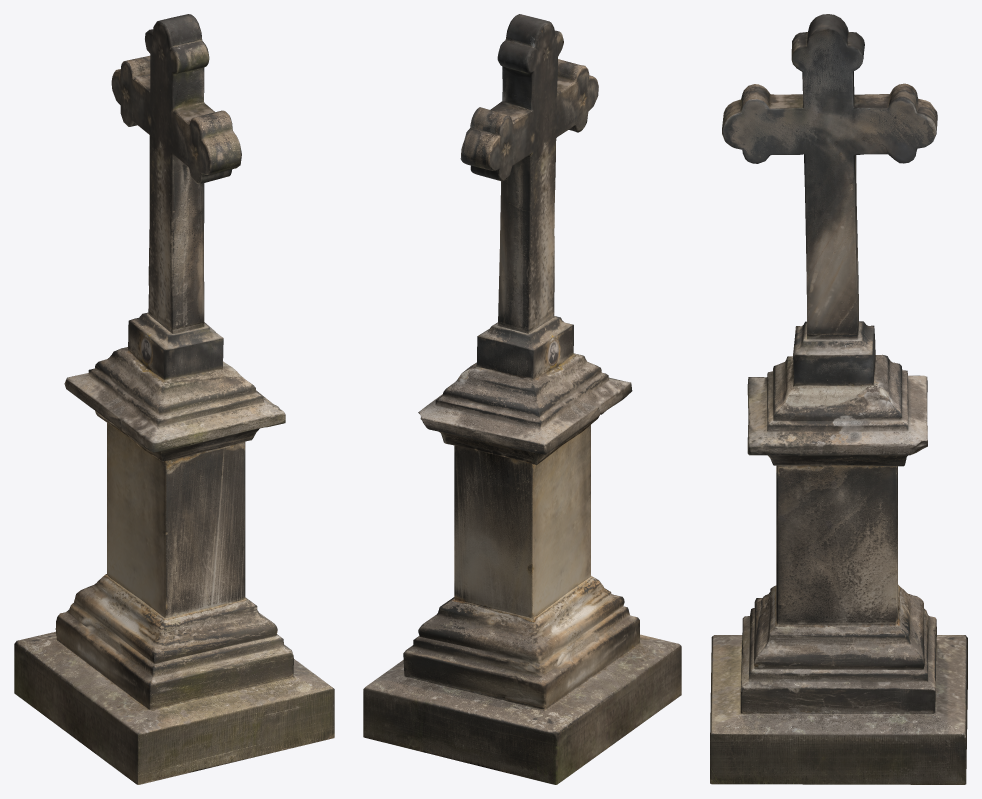
File: sm_ColumnCross_01_01.fbx
3 views of the same model, side by side, from view 1: azimuth 30°, elevation 25°; view 2: azimuth 150°, elevation 25°; view 3: azimuth 270°, elevation 25° (orthographic). The views are drawn at different scales.
Parts seen in each view (by area): view 1: sm_ColumnCross_01_01_LOD0; view 2: sm_ColumnCross_01_01_LOD0; view 3: sm_ColumnCross_01_01_LOD0.
Part boxes in pixels (box(x1,y1,x2,y2)): sm_ColumnCross_01_01_LOD0: box(14, 14, 334, 784); sm_ColumnCross_01_01_LOD0: box(363, 14, 681, 784); sm_ColumnCross_01_01_LOD0: box(710, 14, 967, 784).
Bounding box in the file's own units: 69.75 × 77.1 × 236.
